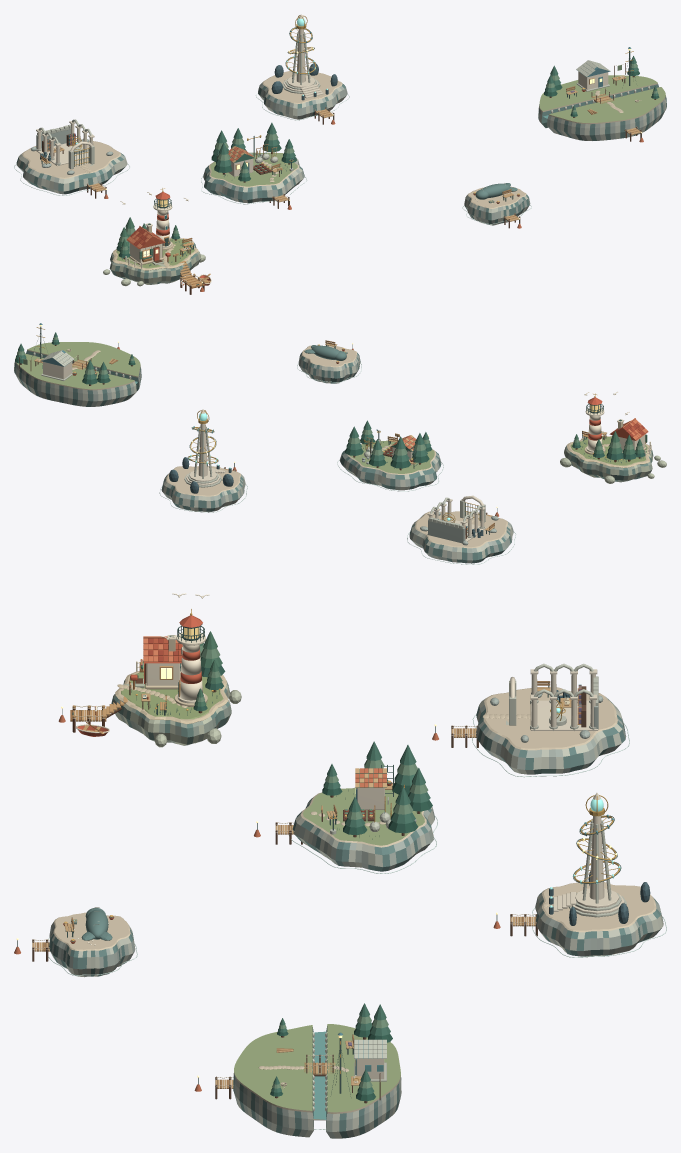
Rendered from world.glb.
3 renders of one model, top to bottom at view 1: azimuth 30°, elevation 25°; view 2: azimuth 150°, elevation 25°; view 3: azimuth 270°, elevation 25°, orthographic. The views are drawn at different scales.
Visible parts, largest first — view 1: relay_World_sage_grass, archive_World_shell_sand, archive_World_pale_stone, relay_World_pale_stone, relay_World_deep_stone, wind_World_sage_grass, beacon_World_pale_stone, archive_World_warm_limestone, beacon_World_shell_sand, wind_World_pine_green, archive_World_silver_stone, wind_World_deep_stone (+18 smaller); view 2: relay_World_sage_grass, archive_World_silver_stone, archive_World_shell_sand, relay_World_pale_stone, archive_World_pale_stone, beacon_World_pale_stone, relay_World_deep_stone, beacon_World_shell_sand, wind_World_pine_green, whale_World_deep_stone, wind_World_deep_stone, relay_World_silver_stone (+24 smaller); view 3: relay_World_sage_grass, archive_World_shell_sand, archive_World_pale_stone, relay_World_pale_stone, beacon_World_shell_sand, wind_World_sage_grass, beacon_World_pale_stone, archive_World_warm_limestone, wind_World_pine_green, beacon_World_warm_limestone, archive_World_silver_stone, home_Plaster_cream (+20 smaller).
Boxes of the visible parts, left/top/right/bottom form: relay_World_sage_grass: left=539, top=75, right=665, bottom=122; archive_World_shell_sand: left=22, top=141, right=121, bottom=190; archive_World_pale_stone: left=17, top=119, right=127, bottom=193; relay_World_pale_stone: left=538, top=60, right=666, bottom=140; relay_World_deep_stone: left=538, top=84, right=666, bottom=140; wind_World_sage_grass: left=210, top=152, right=297, bottom=186; beacon_World_pale_stone: left=259, top=32, right=345, bottom=119; archive_World_warm_limestone: left=36, top=121, right=94, bottom=165; beacon_World_shell_sand: left=262, top=71, right=342, bottom=116; wind_World_pine_green: left=213, top=122, right=295, bottom=177; archive_World_silver_stone: left=20, top=128, right=125, bottom=194; wind_World_deep_stone: left=203, top=157, right=304, bottom=203; relay_World_sage_grass: left=15, top=342, right=140, bottom=389; archive_World_silver_stone: left=409, top=512, right=513, bottom=563; archive_World_shell_sand: left=415, top=511, right=507, bottom=548; relay_World_pale_stone: left=14, top=350, right=140, bottom=406; archive_World_pale_stone: left=411, top=497, right=513, bottom=562; beacon_World_pale_stone: left=163, top=426, right=245, bottom=511; relay_World_deep_stone: left=14, top=350, right=141, bottom=406; beacon_World_shell_sand: left=166, top=466, right=240, bottom=510; wind_World_pine_green: left=346, top=420, right=431, bottom=462; whale_World_deep_stone: left=300, top=345, right=360, bottom=383; wind_World_deep_stone: left=340, top=450, right=440, bottom=490; relay_World_silver_stone: left=15, top=364, right=141, bottom=406; relay_World_sage_grass: left=234, top=1024, right=400, bottom=1112; archive_World_shell_sand: left=451, top=686, right=617, bottom=750; archive_World_pale_stone: left=476, top=663, right=624, bottom=774; relay_World_pale_stone: left=233, top=1032, right=401, bottom=1138; beacon_World_shell_sand: left=510, top=881, right=656, bottom=955; wind_World_sage_grass: left=303, top=788, right=424, bottom=845; beacon_World_pale_stone: left=536, top=820, right=663, bottom=956; archive_World_warm_limestone: left=510, top=669, right=598, bottom=730; wind_World_pine_green: left=323, top=741, right=430, bottom=836; beacon_World_warm_limestone: left=553, top=793, right=624, bottom=914; archive_World_silver_stone: left=476, top=691, right=625, bottom=774; home_Plaster_cream: left=136, top=632, right=205, bottom=703.
Size of the model in its own units: 90.08 by 13.19 by 54.2.
